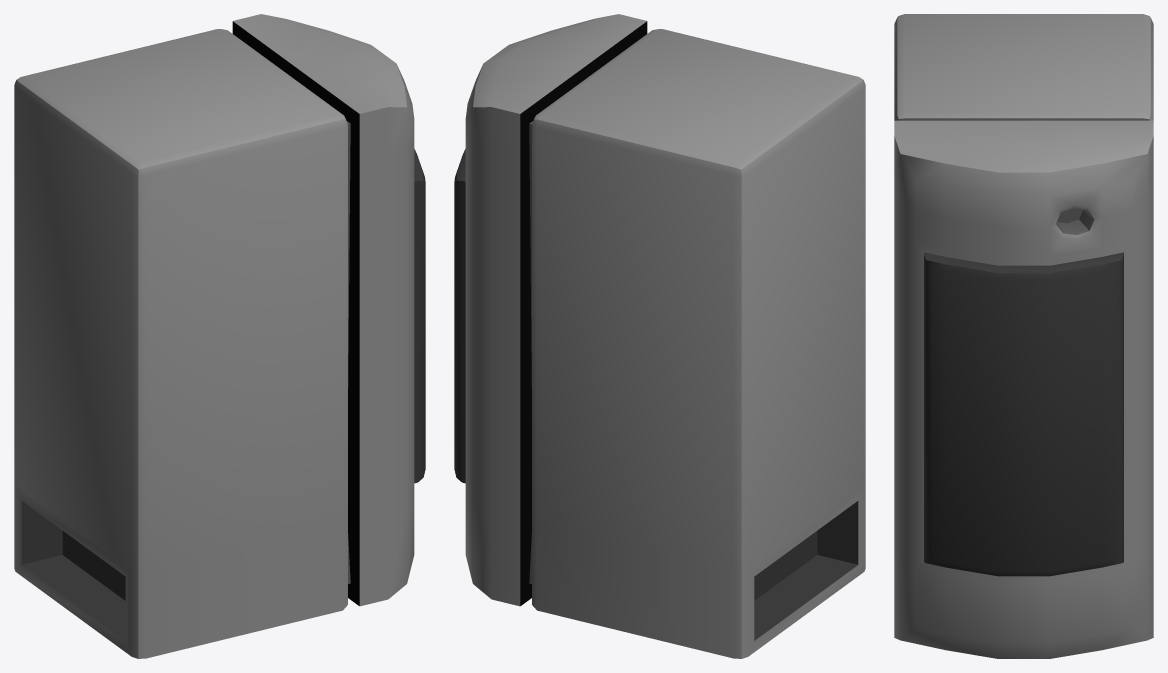
File: PC_Speaker_01.glb
The picture shows the model from 3 angles, left to right: view 1: azimuth 30°, elevation 25°; view 2: azimuth 150°, elevation 25°; view 3: azimuth 270°, elevation 25°; orthographic projection. The views are drawn at different scales.
Visible parts, largest first — view 1: Mesh_Speaker_01; view 2: Mesh_Speaker_01; view 3: Mesh_Speaker_01.
Part boxes in pixels (left/top/right/bottom): Mesh_Speaker_01: left=14, top=14, right=425, bottom=658; Mesh_Speaker_01: left=454, top=14, right=865, bottom=658; Mesh_Speaker_01: left=894, top=14, right=1153, bottom=658.
Bounding box in the file's own units: 0.1757 × 0.25 × 0.117.
1 material, 1 textured.
